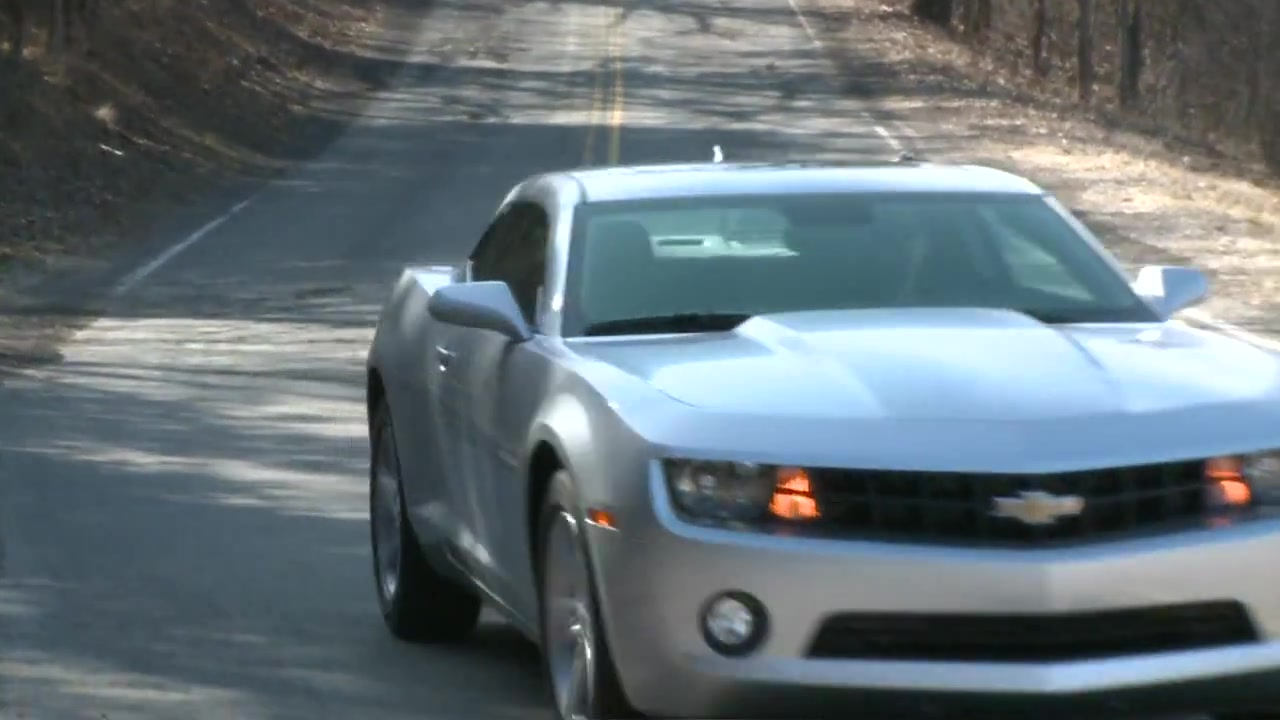car: (363, 159, 1280, 720)
